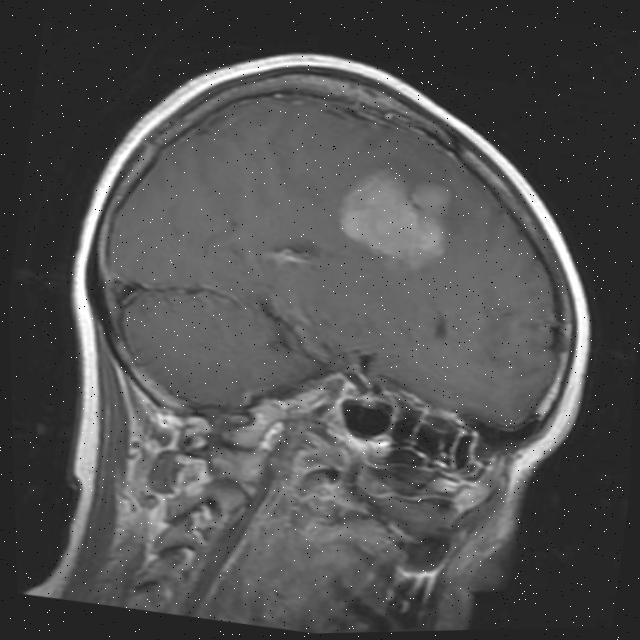Meningioma: (326, 159, 458, 278)
